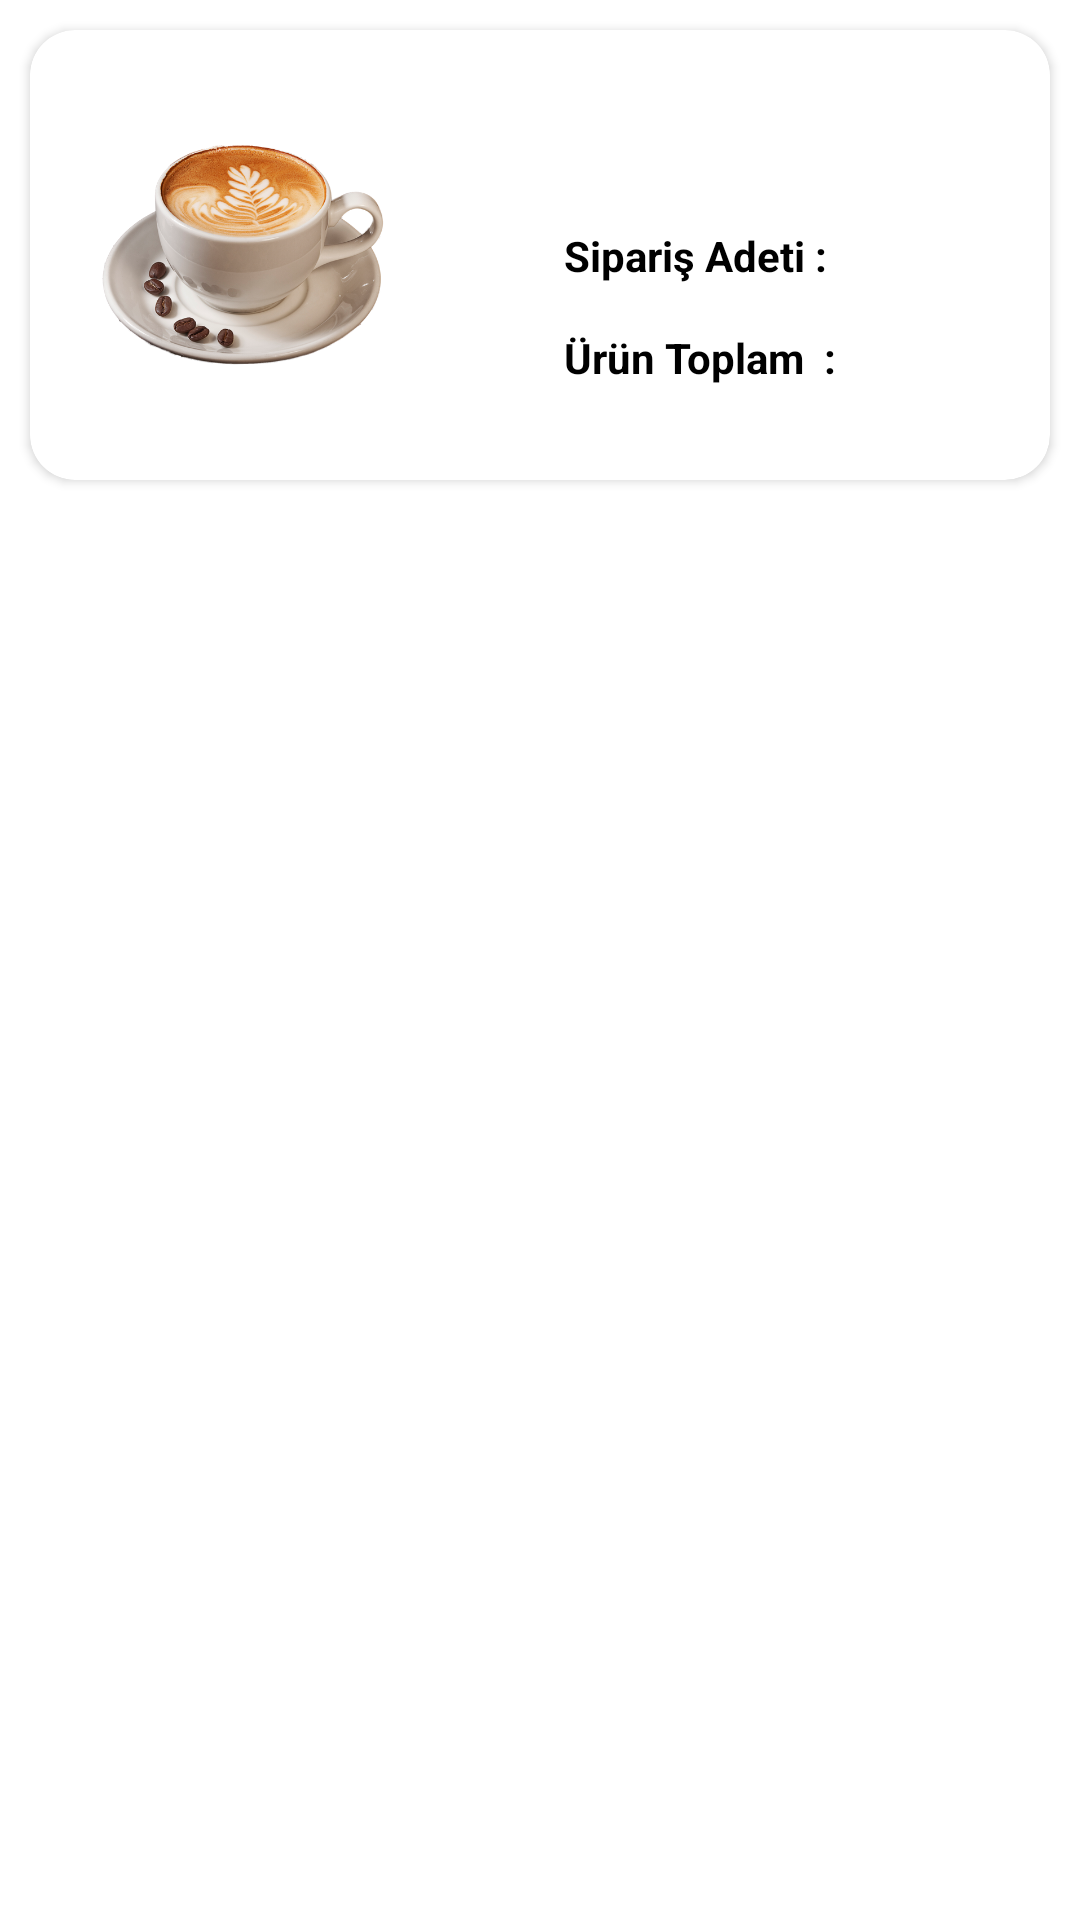

Named icons in this screenshot (1080px×1920px) and their centers, (x,y):
kahve: (243,254)
